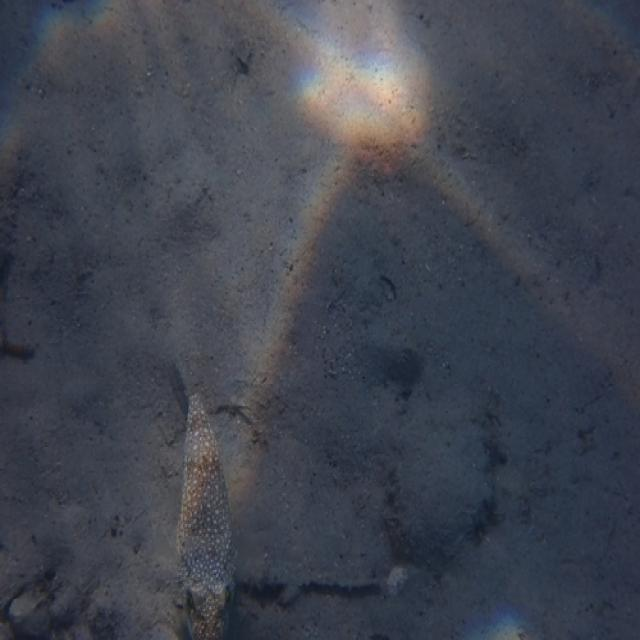Balik: (178, 395, 234, 639)
